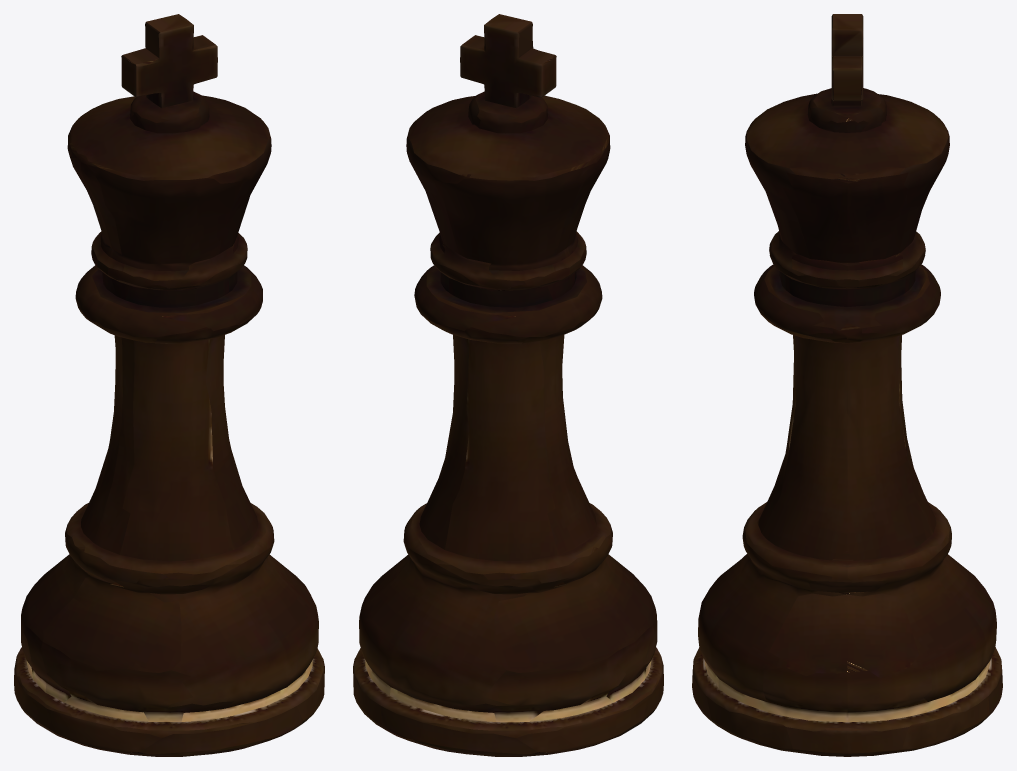
The picture shows the model from 3 angles, left to right: view 1: azimuth 30°, elevation 25°; view 2: azimuth 150°, elevation 25°; view 3: azimuth 270°, elevation 25°; orthographic projection.
Parts seen in each view (by area): view 1: geometry_0; view 2: geometry_0; view 3: geometry_0.
Part boxes in pixels (box(x1,y1,x2,y2)): geometry_0: box(14, 14, 324, 756); geometry_0: box(353, 14, 663, 756); geometry_0: box(692, 14, 1002, 756).
Bounding box in the file's own units: 0.4203 × 1 × 0.4202.
Materials: 1 (1 with a texture image).
